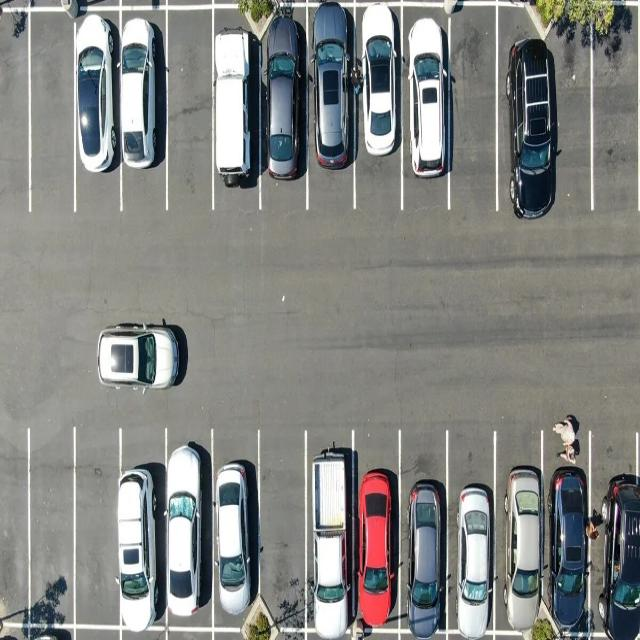empty: (446, 5, 498, 208), (255, 430, 309, 624), (25, 424, 76, 626), (164, 8, 215, 209), (590, 11, 639, 212), (28, 9, 77, 210), (75, 431, 118, 625), (551, 10, 592, 212)
occupied: (496, 8, 554, 210), (114, 424, 167, 628), (400, 2, 452, 209), (351, 6, 404, 206), (495, 429, 546, 635), (303, 434, 356, 629), (304, 4, 355, 206), (591, 425, 639, 638), (400, 428, 450, 630), (447, 427, 496, 632), (72, 7, 121, 211), (258, 11, 308, 210), (210, 17, 261, 210), (542, 428, 591, 628), (120, 5, 166, 215), (352, 433, 400, 633), (208, 429, 258, 620), (166, 426, 210, 632)
